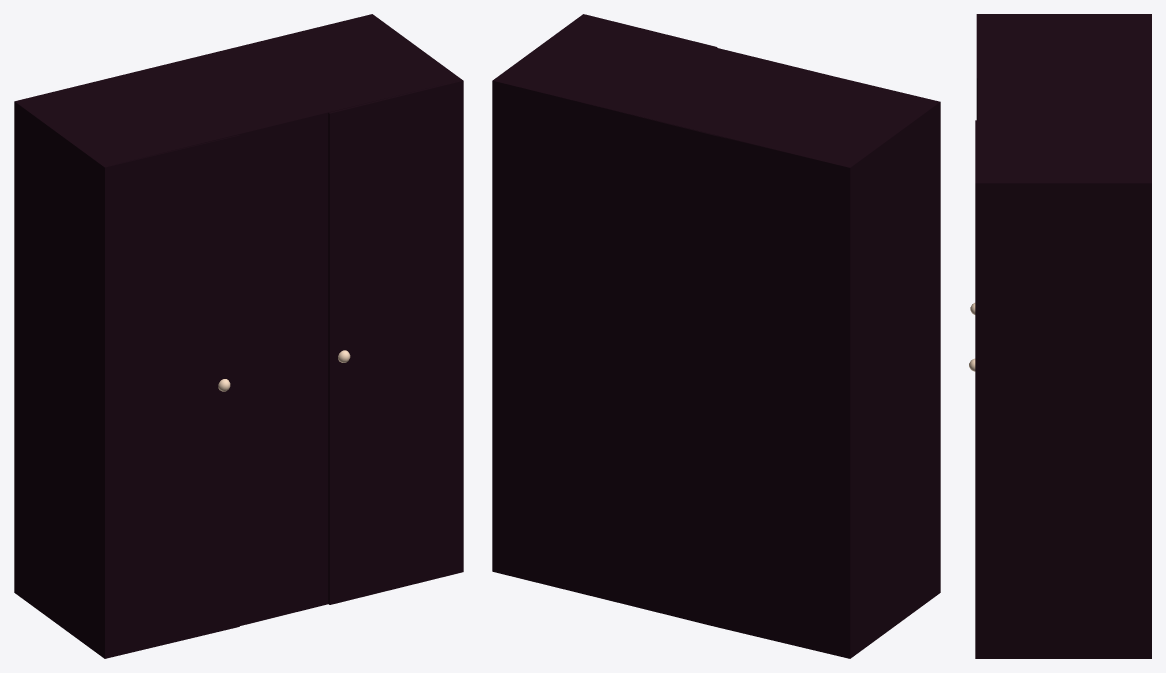
File: KeDoNauAn.001.fbx
The picture shows the model from 3 angles, left to right: view 1: azimuth 30°, elevation 25°; view 2: azimuth 150°, elevation 25°; view 3: azimuth 270°, elevation 25°; orthographic projection. The views are drawn at different scales.
Visible parts, largest first — view 1: KeDoNauAn.001, KeDoNauAn.005, KeDoNauAn.006; view 2: KeDoNauAn.001, KeDoNauAn.005; view 3: KeDoNauAn.001, KeDoNauAn.006.
Part boxes in pixels (box(x1,y1,x2,y2)): KeDoNauAn.001: box(14, 14, 461, 657); KeDoNauAn.005: box(103, 135, 239, 658); KeDoNauAn.006: box(328, 80, 463, 604); KeDoNauAn.001: box(492, 15, 939, 658); KeDoNauAn.005: box(859, 82, 940, 593); KeDoNauAn.001: box(978, 14, 1151, 658); KeDoNauAn.006: box(969, 120, 977, 658).
Size of the model in its own units: 1.6 by 2.1 by 0.7306.
